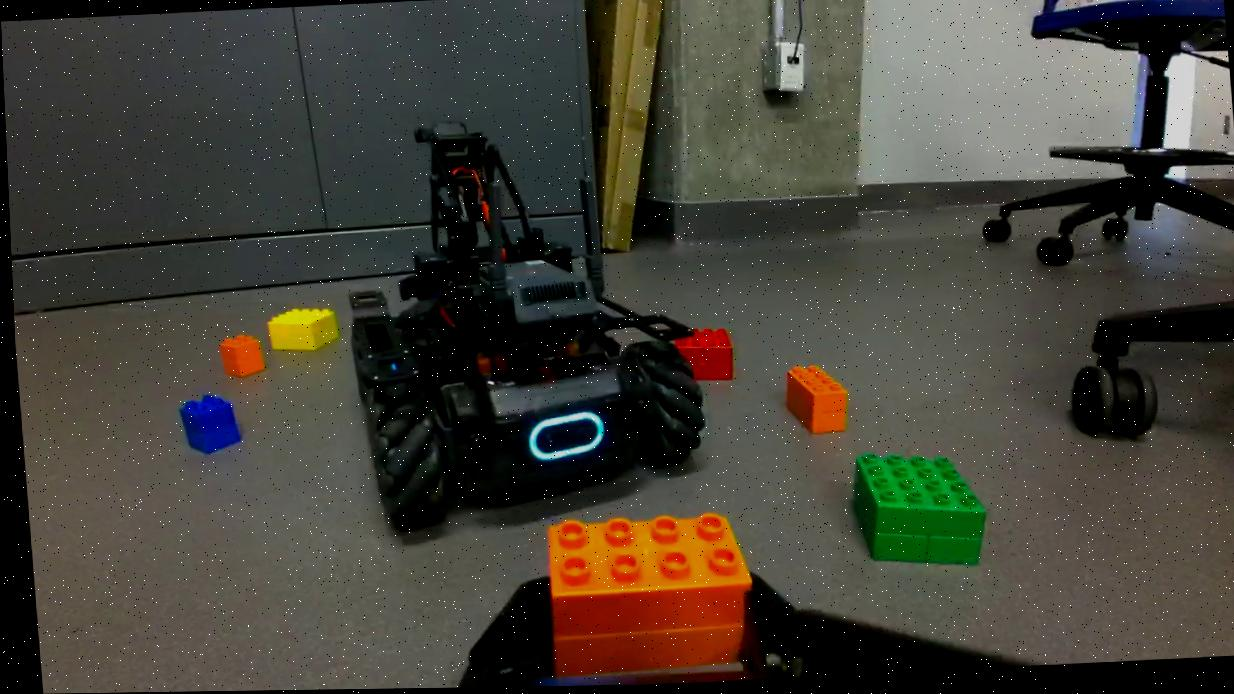2x2lego: (175, 394, 238, 455), (214, 334, 261, 379)
2x4lego: (536, 511, 751, 678), (776, 361, 847, 439)
4x4lego: (840, 445, 986, 575), (668, 325, 733, 389), (262, 306, 336, 354)
